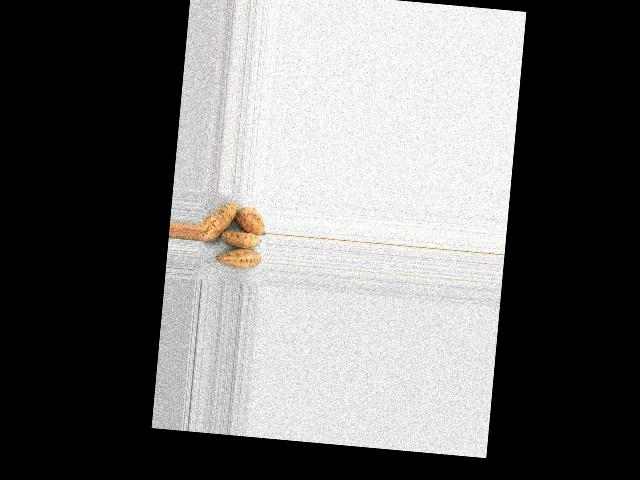sweet_potato: (197, 195, 237, 248)
